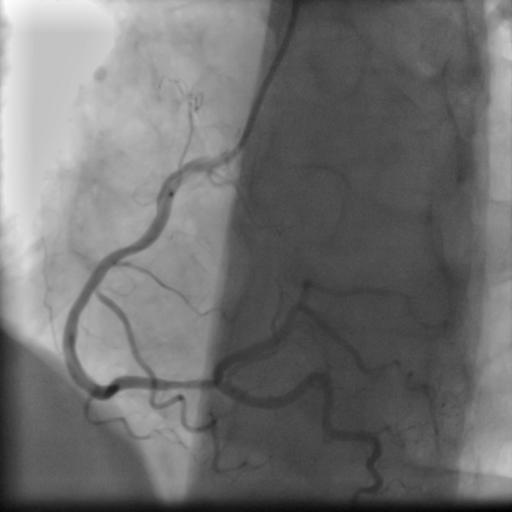Stenosis: (161, 371, 210, 397)
